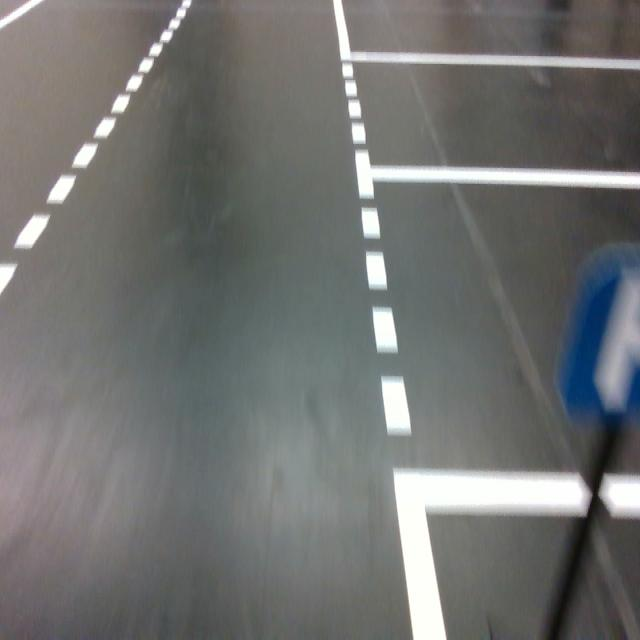parking-sign: (557, 248, 640, 418)
